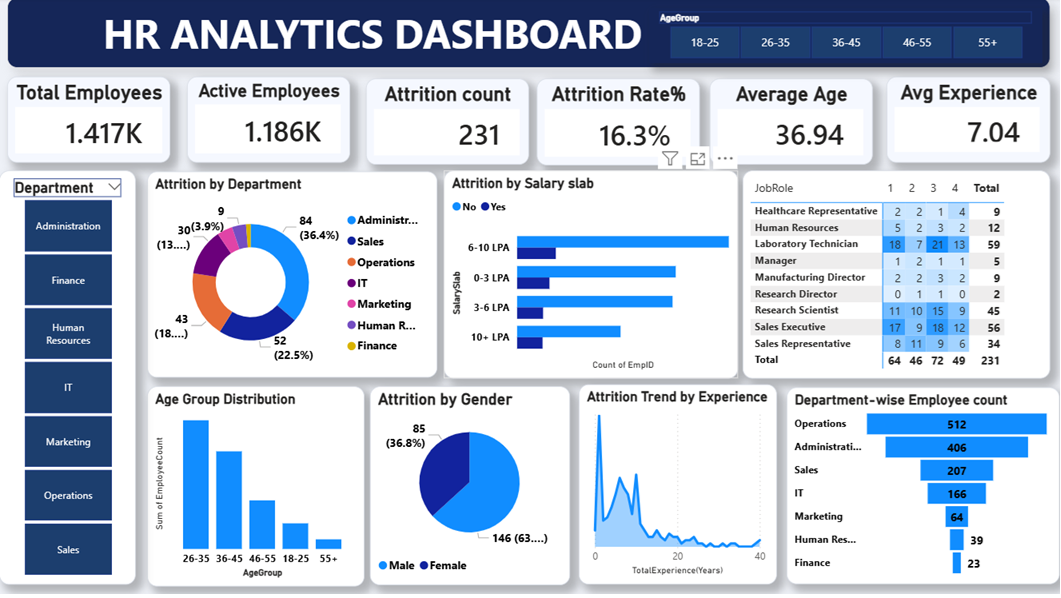

The page's visual inventory and layout, read from the dashboard file:
{"tool":"powerbi","page":{"name":"Page 1","canvas":[1280,720],"ordinal":0},"visuals":[{"type":"textbox","box":[10,0,1259,85],"z":0},{"type":"cardVisual","title":"Total Employees","fields":{"Data":["CountNonNull(HR_Analytics-4.EmpID)"]},"box":[10,95,197,104],"z":1000},{"type":"cardVisual","title":"Attrition count","fields":{"Data":["Sum(HR_Analytics-4.AttritionCount)"]},"box":[442.8,97.7,196.6,103.8],"z":2000},{"type":"cardVisual","title":"Attrition Rate%","fields":{"Data":["HR_Analytics-4.Attrition Rate%"]},"box":[649.1,97.7,196.6,105],"z":3000},{"type":"cardVisual","title":"Average Age","fields":{"Data":["Avg(HR_Analytics-4.Age)"]},"box":[857.8,97.7,196.6,103.8],"z":4000},{"type":"cardVisual","title":"Avg Experience","fields":{"Data":["Avg(HR_Analytics-4.YearsatCompany)"]},"box":[1071.3,95.3,197.9,103.8],"z":5000},{"type":"cardVisual","title":"Active Employees","fields":{"Data":["CountNonNull(HR_Analytics-4.EmployeeCount)"]},"box":[226.8,95.3,196.6,103.8],"z":6000},{"type":"donutChart","title":"Attrition by Department","fields":{"Category":["HR_Analytics-4.Department"],"Y":["Sum(HR_Analytics-4.AttritionCount)"]},"box":[179,210,350,249],"z":7000},{"type":"clusteredBarChart","title":"Attrition by Salary slab","fields":{"Category":["HR_Analytics-4.SalarySlab"],"Y":["CountNonNull(HR_Analytics-4.EmpID)"],"Series":["HR_Analytics-4.Attrition"]},"box":[537,209,355,251],"z":8000},{"type":"pivotTable","title":"Attrition by Jobrole & Jobsatisfaction","fields":{"Rows":["HR_Analytics-4.JobRole"],"Values":["Sum(HR_Analytics-4.AttritionCount)"],"Columns":["HR_Analytics-4.JobSatisfaction"]},"box":[898,209,371,251],"z":9000},{"type":"columnChart","title":"Age Group Distribution","fields":{"Category":["HR_Analytics-4.AgeGroup"],"Y":["Sum(HR_Analytics-4.EmployeeCount)"]},"box":[178.4,469.3,262.1,241.5],"z":10000},{"type":"pieChart","title":"Attrition by Gender","fields":{"Category":["HR_Analytics-4.Gender"],"Y":["Sum(HR_Analytics-4.AttritionCount)"]},"box":[447.6,469.3,241.3,240.1],"z":11000},{"type":"areaChart","title":"Attrition Trend by Experience","fields":{"Category":["HR_Analytics-4.TotalExperience(Years)"],"Y":["Sum(HR_Analytics-4.AttritionCount)"]},"box":[699.7,466.9,238.9,241.3],"z":12000},{"type":"funnel","title":"  Department-wise Employee count","fields":{"Category":["HR_Analytics-4.Department"],"Y":["CountNonNull(HR_Analytics-4.EmpID)"]},"box":[950.7,470.5,329.4,237.7],"z":13000},{"type":"slicer","fields":{"Values":["HR_Analytics-4.Department"]},"box":[0,209,165,500],"z":14000},{"type":"slicer","fields":{"Values":["HR_Analytics-4.AgeGroup"]},"box":[784.2,12.1,475.3,67.6],"z":15000}]}

Visuals, with their boxes in screenshot pixels (x1, y1, x2, y2), scaled from the page's 1280x720 canvas onto the 1061x598 screenshot:
textbox: [8, 0, 1052, 71]
"Total Employees" cardVisual: [8, 79, 172, 165]
"Attrition count" cardVisual: [367, 81, 530, 167]
"Attrition Rate%" cardVisual: [538, 81, 701, 168]
"Average Age" cardVisual: [711, 81, 874, 167]
"Avg Experience" cardVisual: [888, 79, 1052, 165]
"Active Employees" cardVisual: [188, 79, 351, 165]
"Attrition by Department" donutChart: [148, 174, 438, 381]
"Attrition by Salary slab" clusteredBarChart: [445, 174, 739, 382]
"Attrition by Jobrole & Jobsatisfaction" pivotTable: [744, 174, 1052, 382]
"Age Group Distribution" columnChart: [148, 390, 365, 590]
"Attrition by Gender" pieChart: [371, 390, 571, 589]
"Attrition Trend by Experience" areaChart: [580, 388, 778, 588]
"  Department-wise Employee count" funnel: [788, 391, 1060, 588]
slicer - HR_Analytics-4.Department: [0, 174, 137, 589]
slicer - HR_Analytics-4.AgeGroup: [650, 10, 1044, 66]
